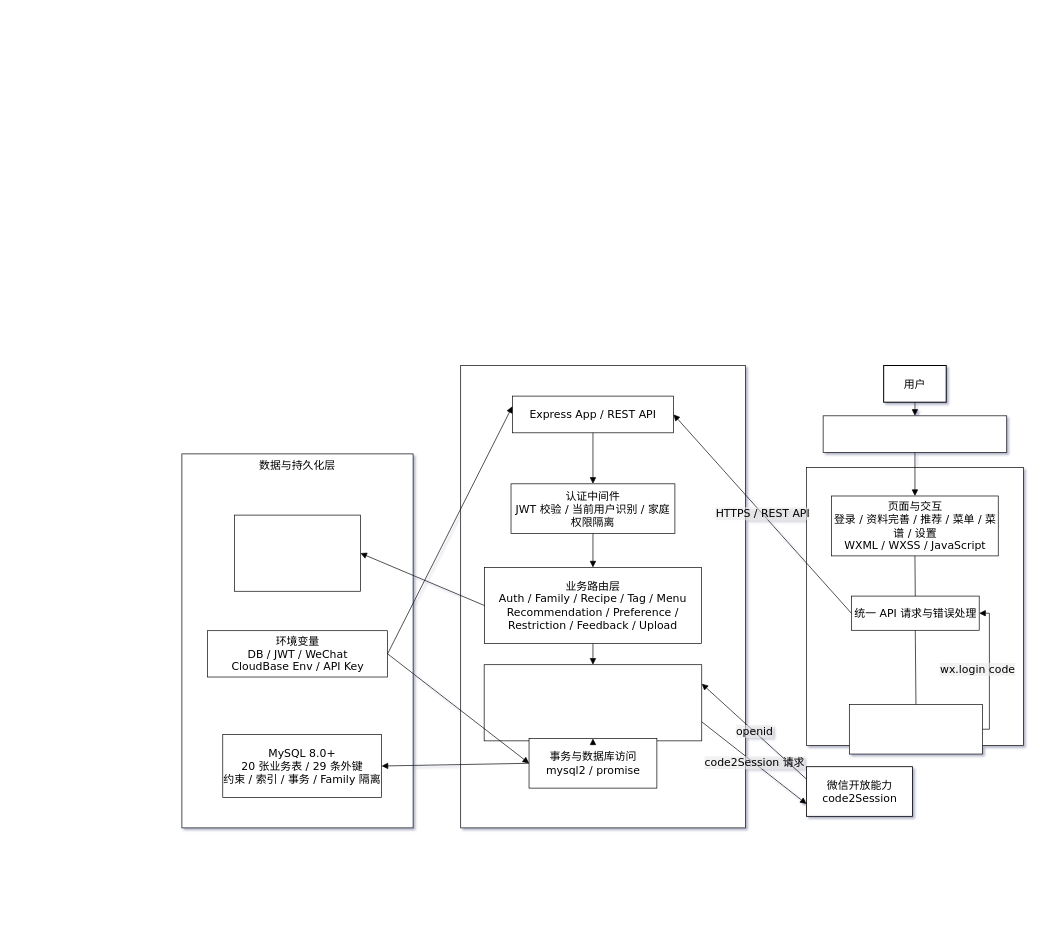
Image size: 1040x928. Some labels were removed from this diagram. Here are the shapes that lost their labels. From the top down, the box of each, then its label:
(822, 415, 1007, 453): 微信客户端 / 小程序运行环境
(234, 514, 360, 591): CloudBase Storage（私有） 系统菜谱封面 / 用户头像 / 家庭菜谱封面 稳定 cloud:// File ID + 临时 HTTPS URL
(460, 365, 746, 828): 服务端层：CloudBase 云托管 mealpilot-api Node.js + Express
(806, 467, 1023, 746): 客户端层：微信小程序
(483, 664, 702, 741): 业务服务层 微信认证 / 家庭生命周期 / Starter Recipes 推荐引擎 / Storage / Media URL
(849, 704, 983, 754): 微信登录态与 JWT 管理 Session 恢复 / Profile Setup 路由
